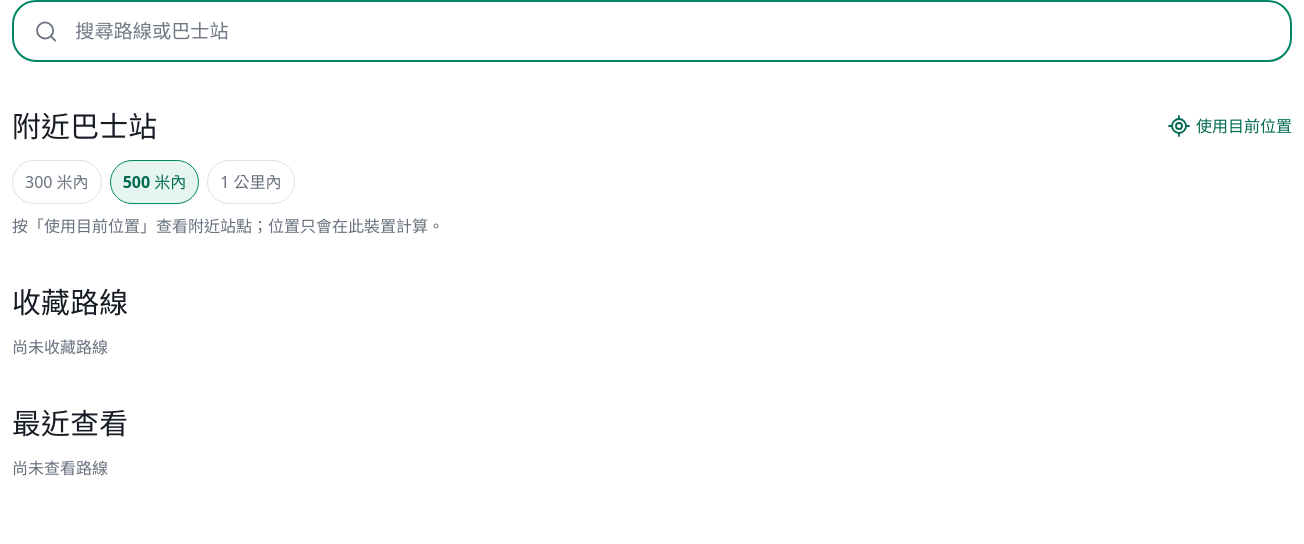
Scenario: HomePage › keeps the radius selector visible after unsupported
Later steps or results of the test are not shown.
Click the button "1 公里".
click(251, 182)  # box 207,160 -> 295,204
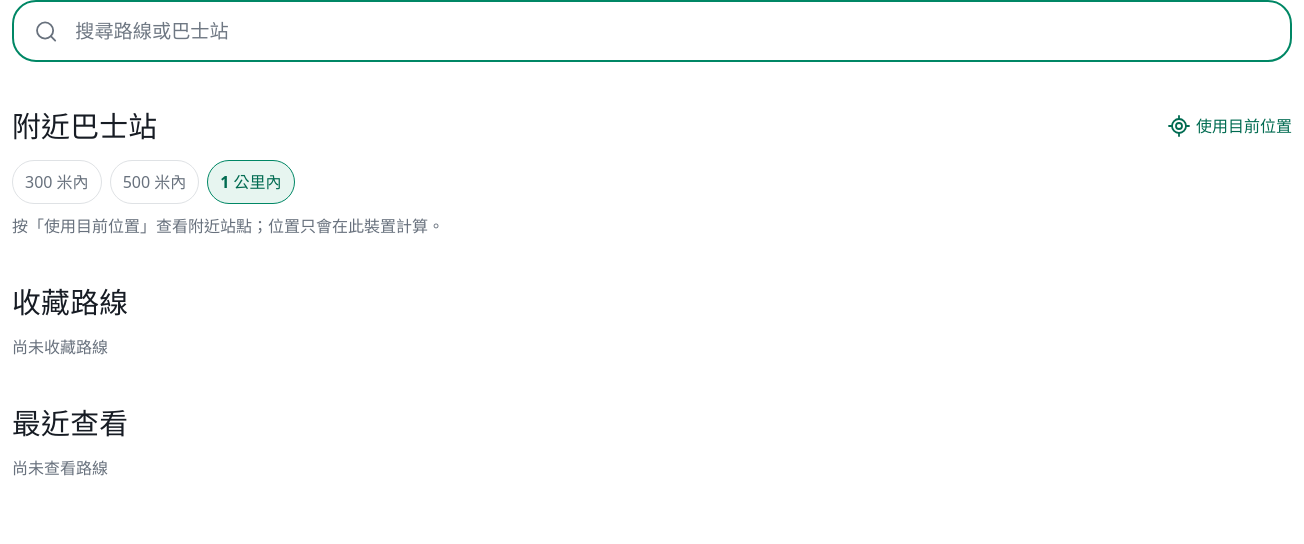
Click the button "使用目前位置".
click(1230, 126)  # box 1167,104 -> 1292,148
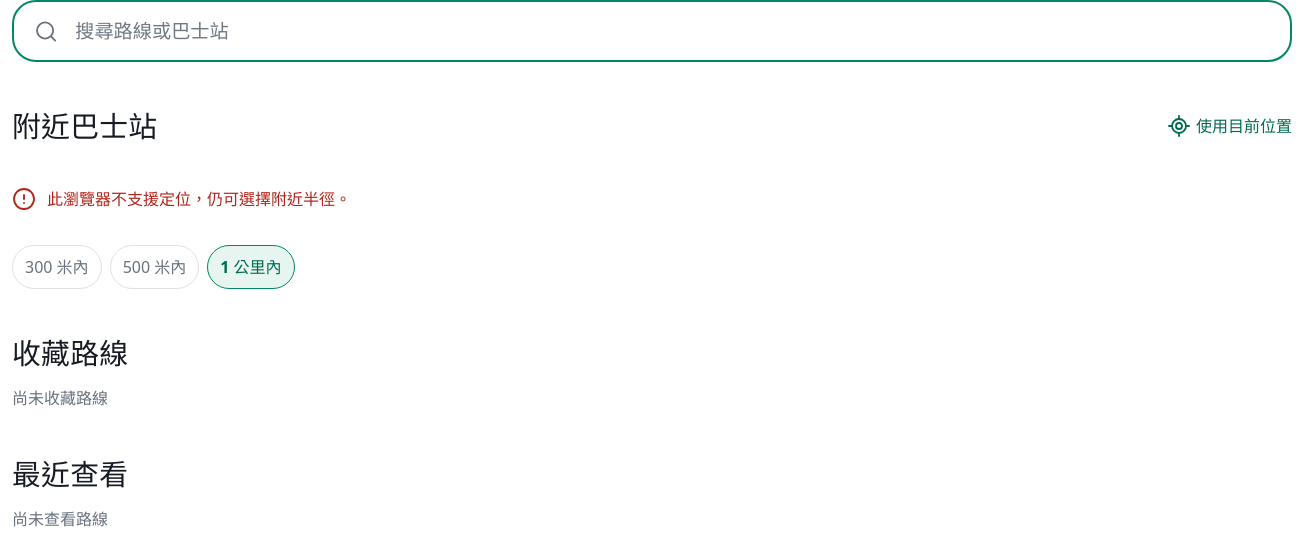
Check: the button "300 米" is shown, box 12,245 -> 102,289
Check: the text "此瀏覽器不支援定位，仍可選擇附近半徑。" is shown, box 47,188 -> 351,210
